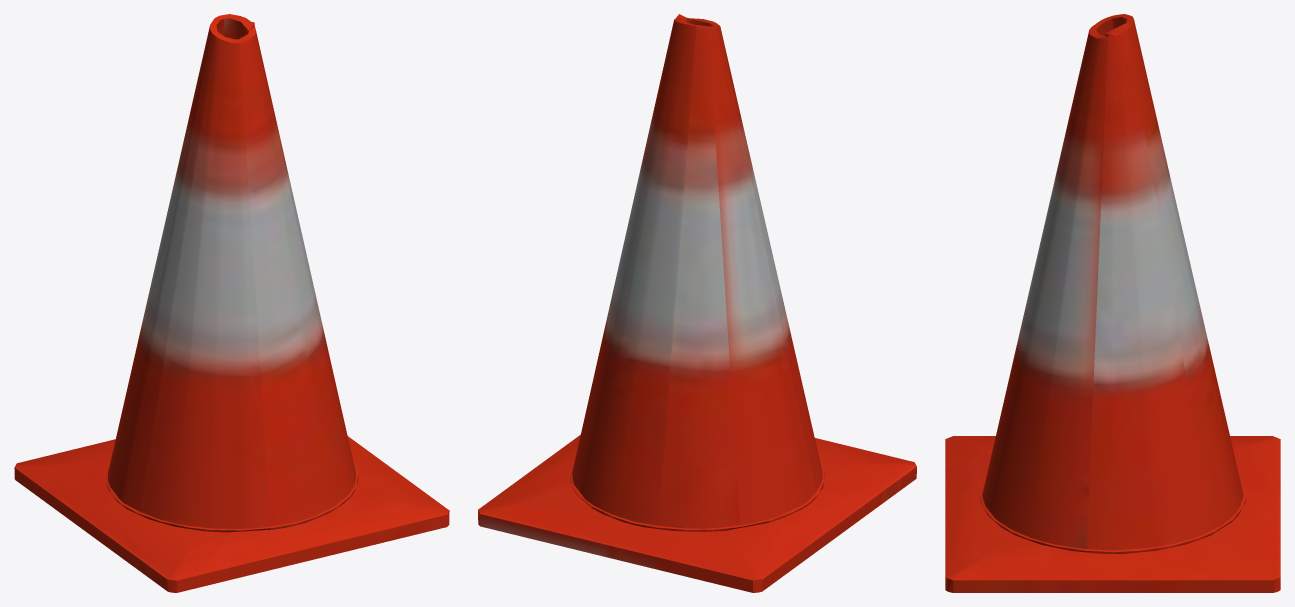
The picture shows the model from 3 angles, left to right: view 1: azimuth 30°, elevation 25°; view 2: azimuth 150°, elevation 25°; view 3: azimuth 270°, elevation 25°; orthographic projection. The views are drawn at different scales.
Parts seen in each view (by area): view 1: cone; view 2: cone; view 3: cone.
Part boxes in pixels (x1=…): cone: x1=14, y1=14, x2=449, y2=592; cone: x1=478, y1=14, x2=916, y2=592; cone: x1=945, y1=14, x2=1280, y2=592.
Size of the model in its own units: 61.63 by 100 by 60.6.
Materials: 1 (1 with a texture image).
